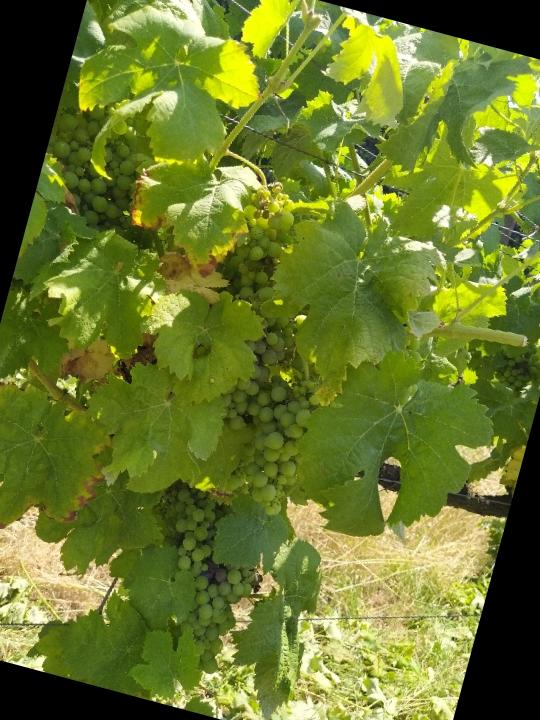grape: (122, 475, 282, 683), (195, 172, 339, 374), (28, 83, 168, 250), (220, 355, 332, 523)
